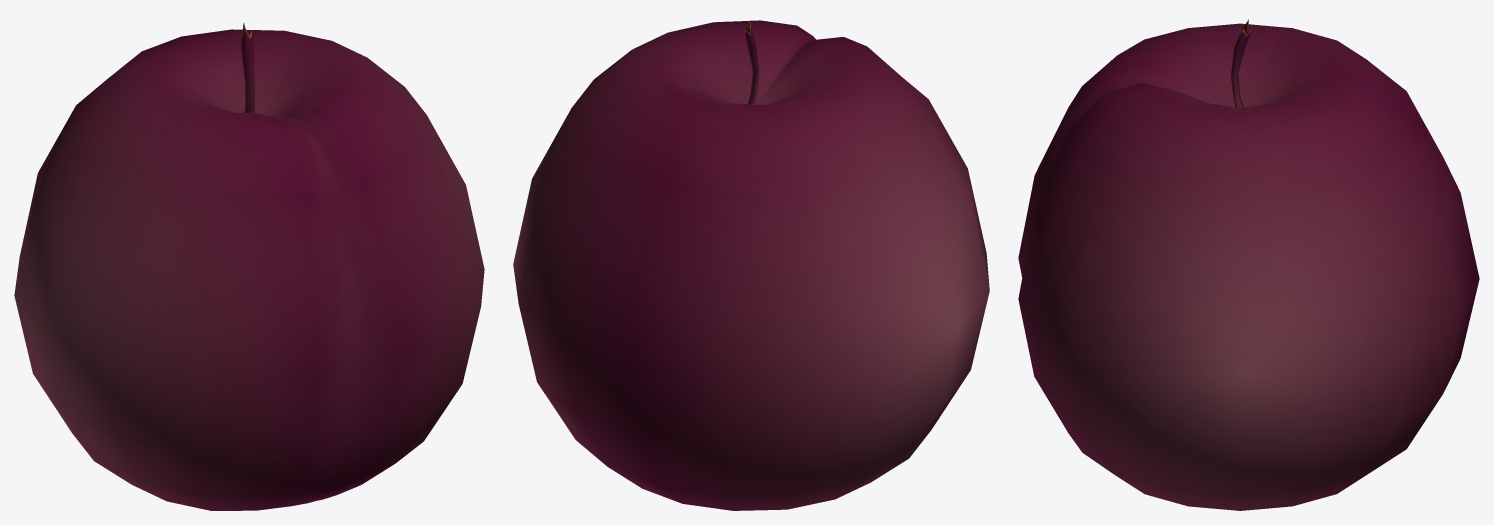
The model's file is plum.FBX.
3 views of the same model, side by side, from view 1: azimuth 30°, elevation 25°; view 2: azimuth 150°, elevation 25°; view 3: azimuth 270°, elevation 25° (orthographic).
Visible parts, largest first — view 1: Plum; view 2: Plum; view 3: Plum.
Boxes of the visible parts, x1=… form: Plum: x1=14, y1=22, x2=484, y2=510; Plum: x1=513, y1=20, x2=989, y2=510; Plum: x1=1018, y1=19, x2=1479, y2=510.
Size of the model in its own units: 4.53 by 4.71 by 4.37.
